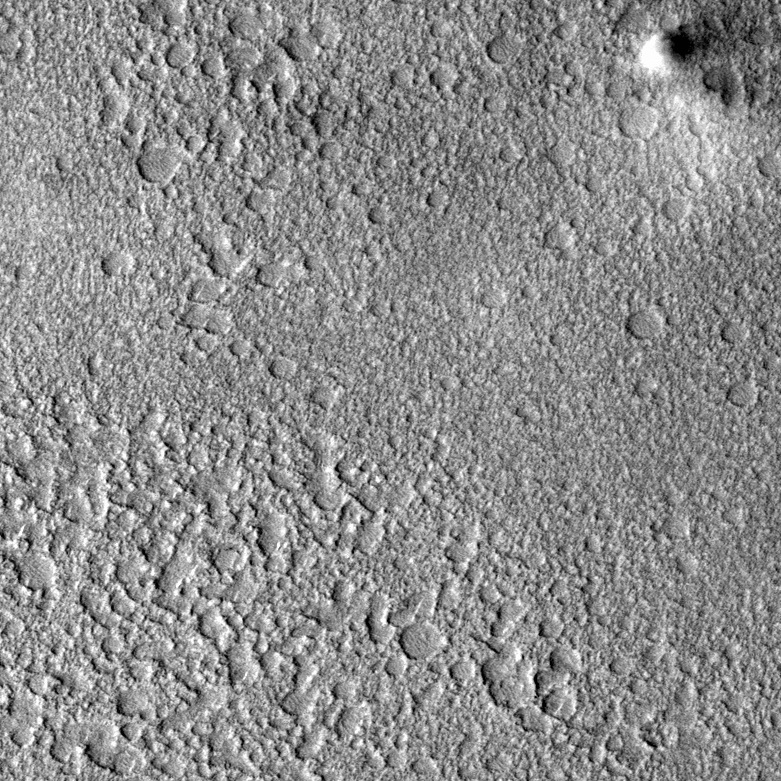dust_devil: (636, 1, 781, 77)
